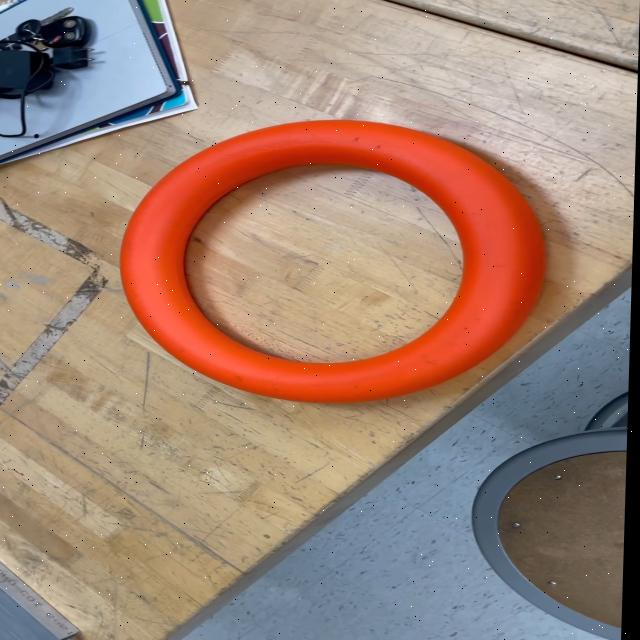note: (114, 119, 564, 406)
